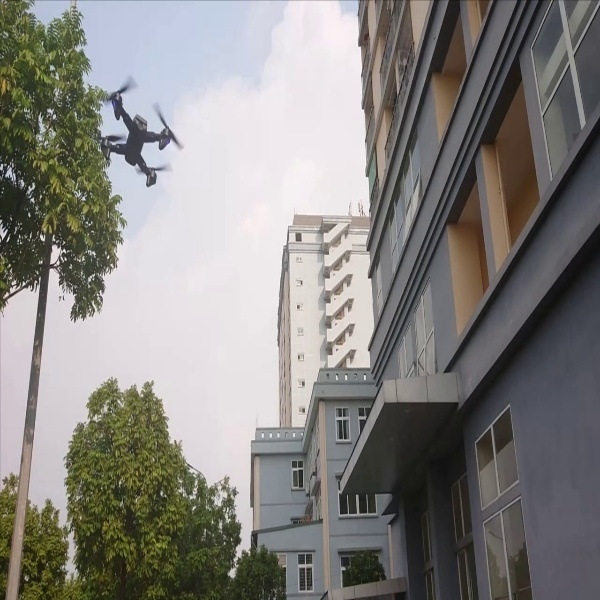drone: (95, 75, 186, 189)
